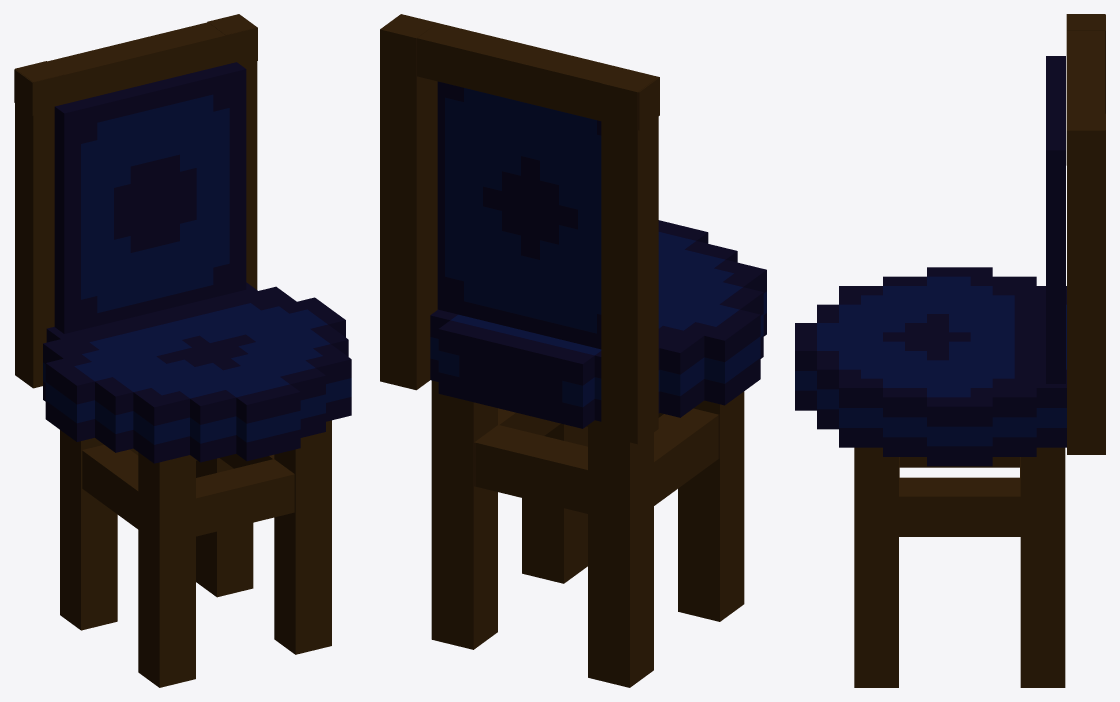
Rendered from Chair_Blue.fbx.
The picture shows the model from 3 angles, left to right: view 1: azimuth 30°, elevation 25°; view 2: azimuth 150°, elevation 25°; view 3: azimuth 270°, elevation 25°; orthographic projection. The views are drawn at different scales.
Parts seen in each view (by area): view 1: Chair2; view 2: Chair2; view 3: Chair2.
Boxes of the visible parts, box(x1,y1,x2,y2) form: Chair2: box(14, 14, 351, 687); Chair2: box(380, 14, 766, 687); Chair2: box(795, 14, 1105, 687).
Bounding box in the file's own units: 0.6632 × 1.27 × 0.6257.
